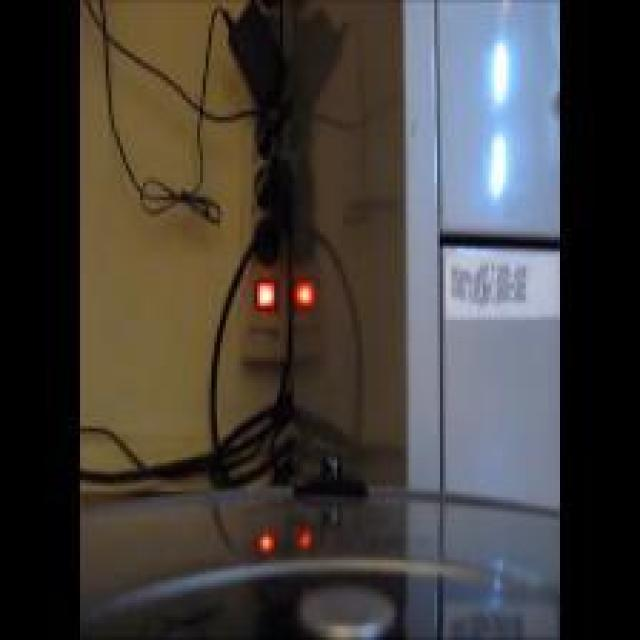other: (470, 32, 519, 204), (244, 258, 330, 306), (239, 518, 322, 555)
